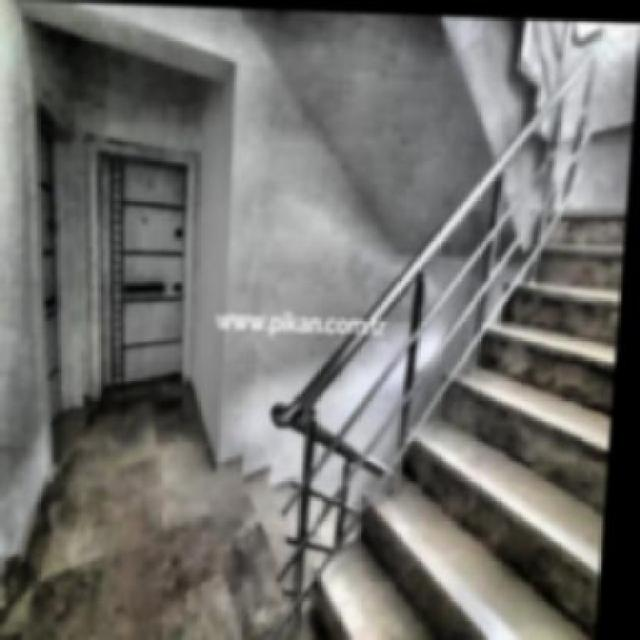stair: (298, 162, 631, 638)
